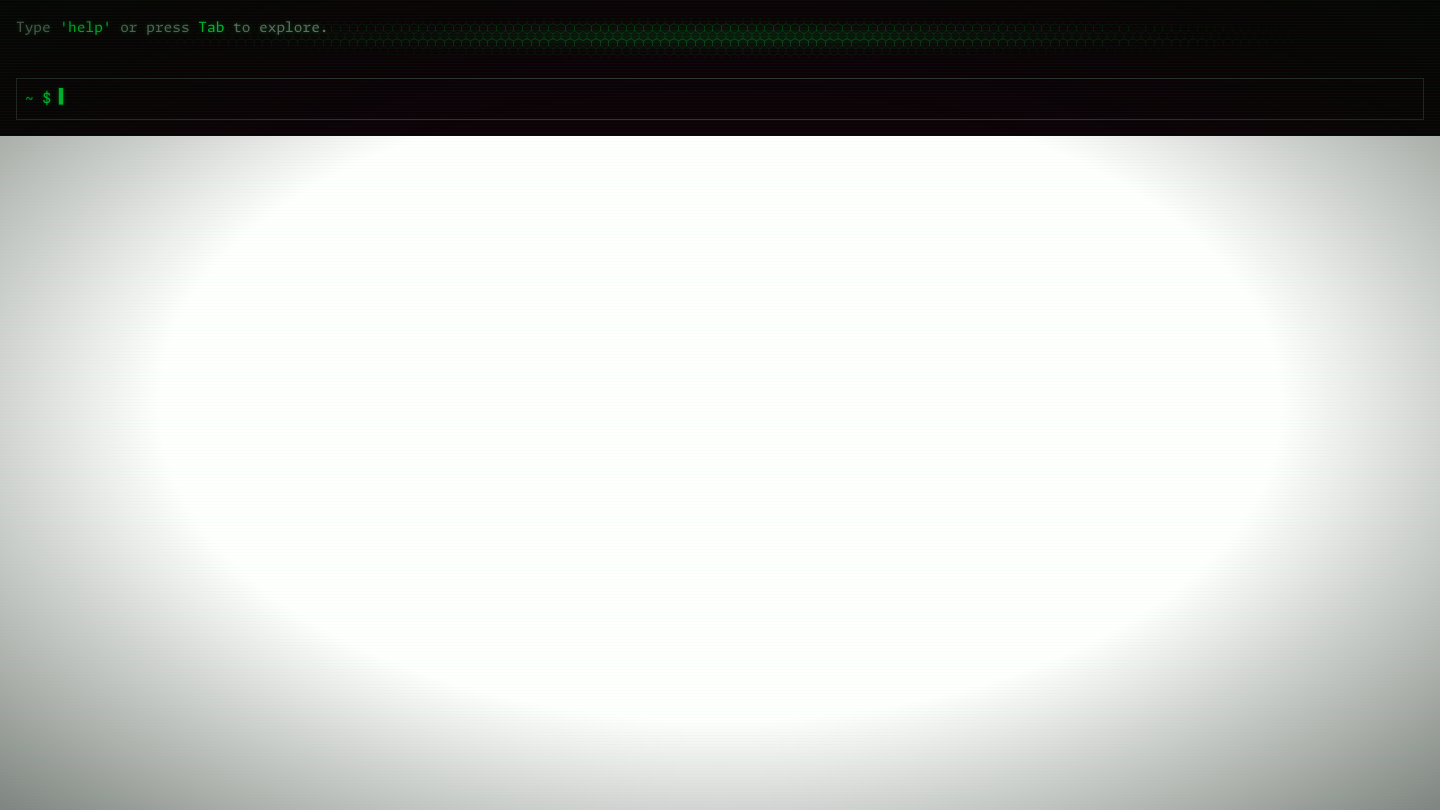
Test case: Terminal › clears terminal and shows MOTD on clear command
In the field: {"x": 737, "y": 100} [59,90,1415,110], type "history"
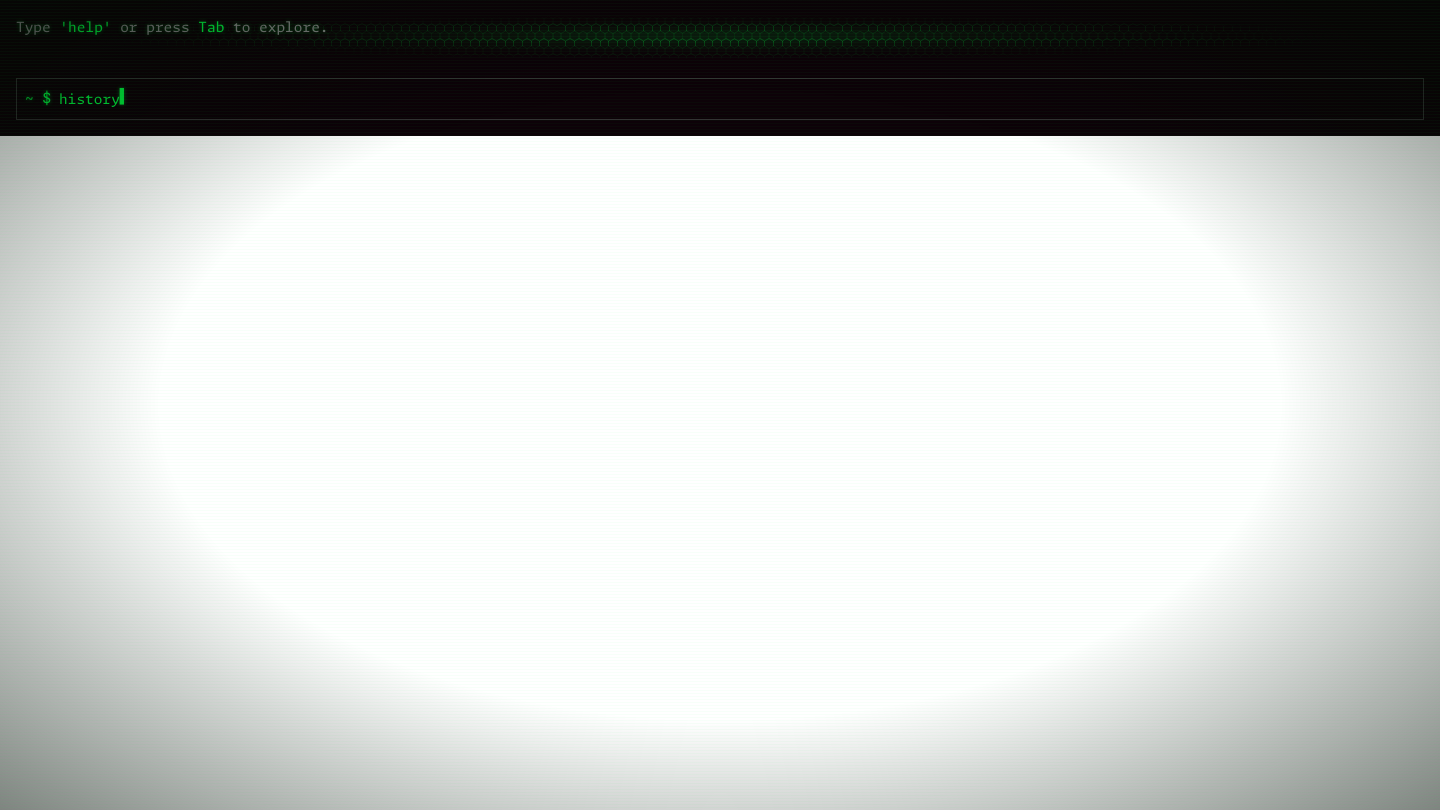
Press Enter in the field, box [59,90,1415,110]
Wait 600 ms
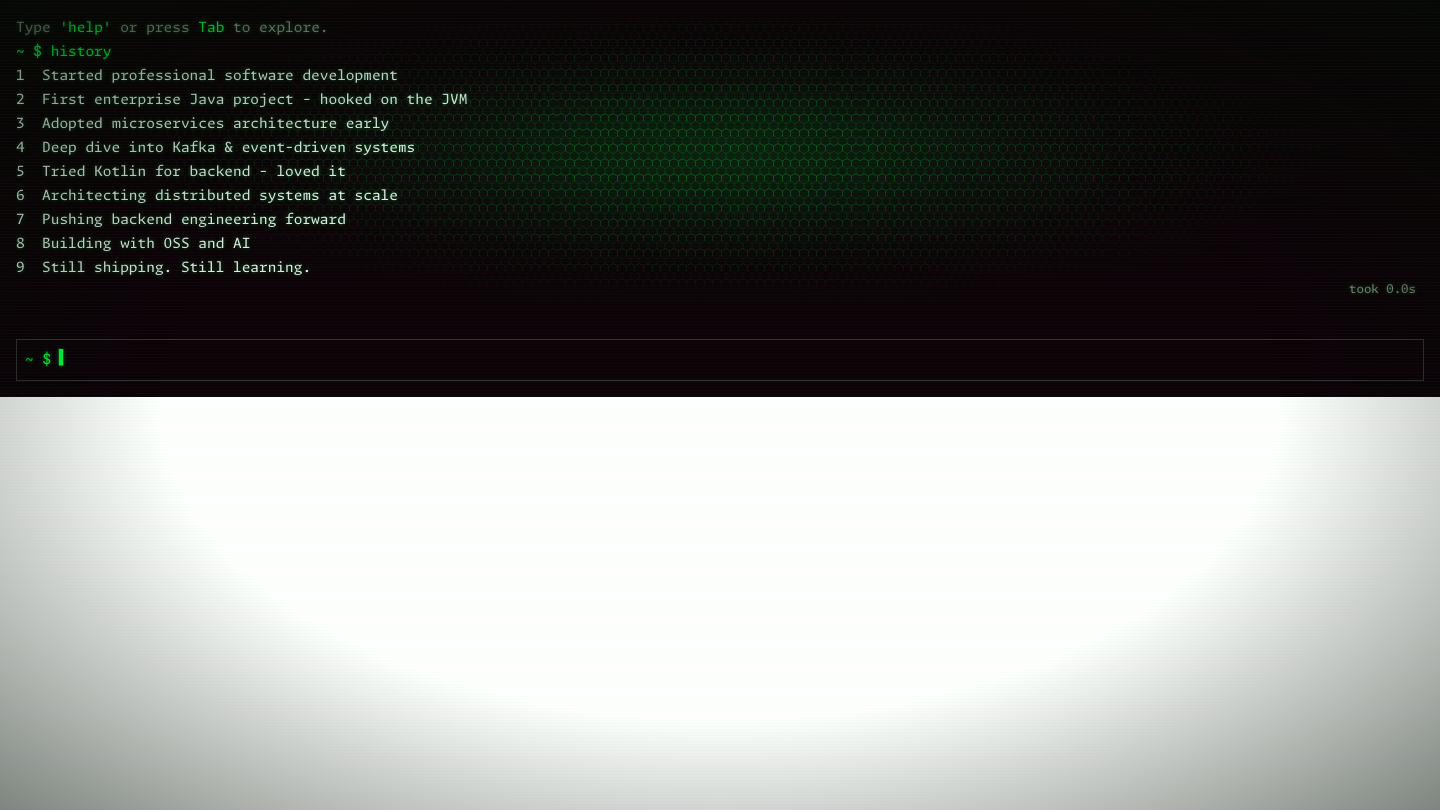
expect the text "9 Still shipping. Still learning." is shown: met, box [16,261,311,275]
In the field: {"x": 737, "y": 361} [59,351,1415,371], type "clear"
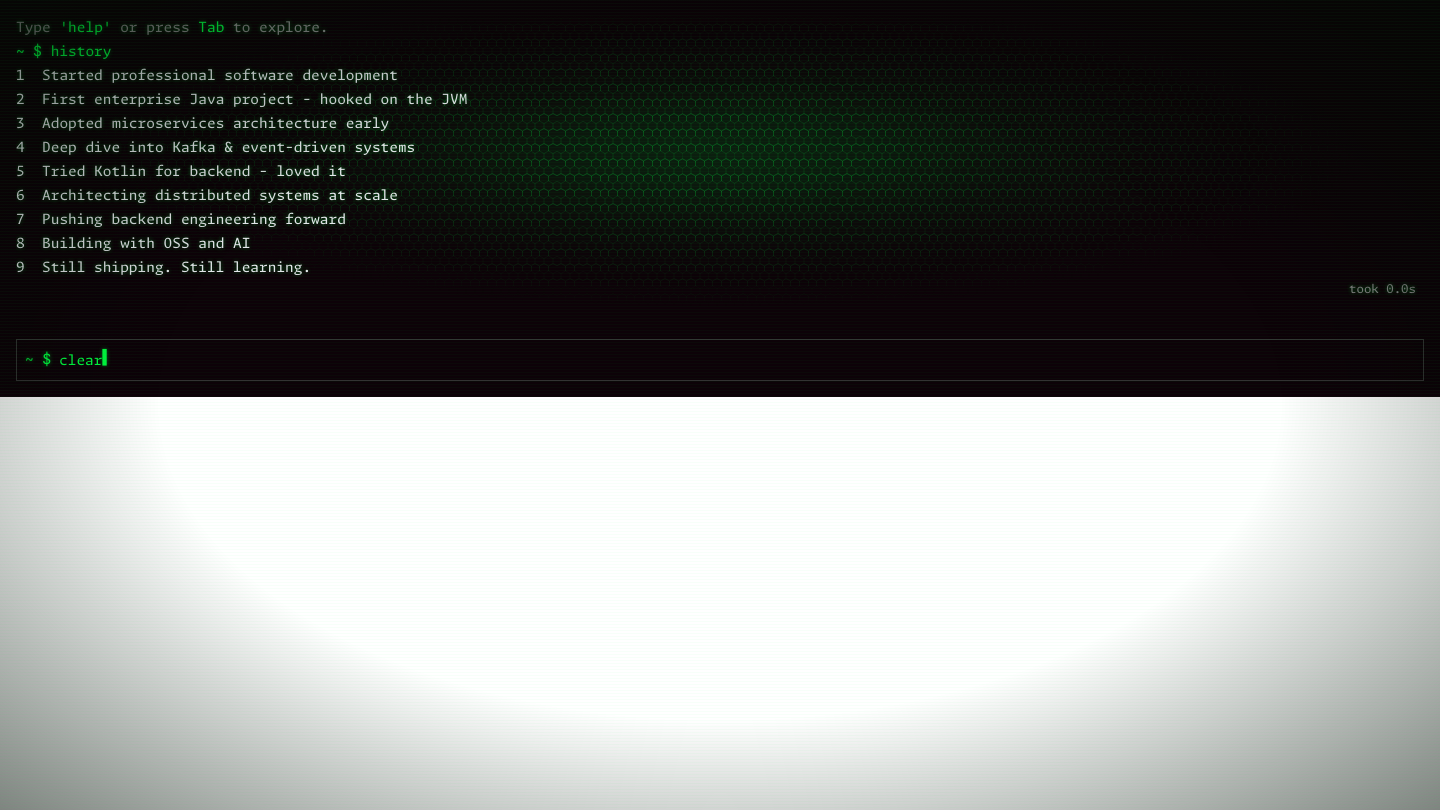
Press Enter in the field, box [59,351,1415,371]
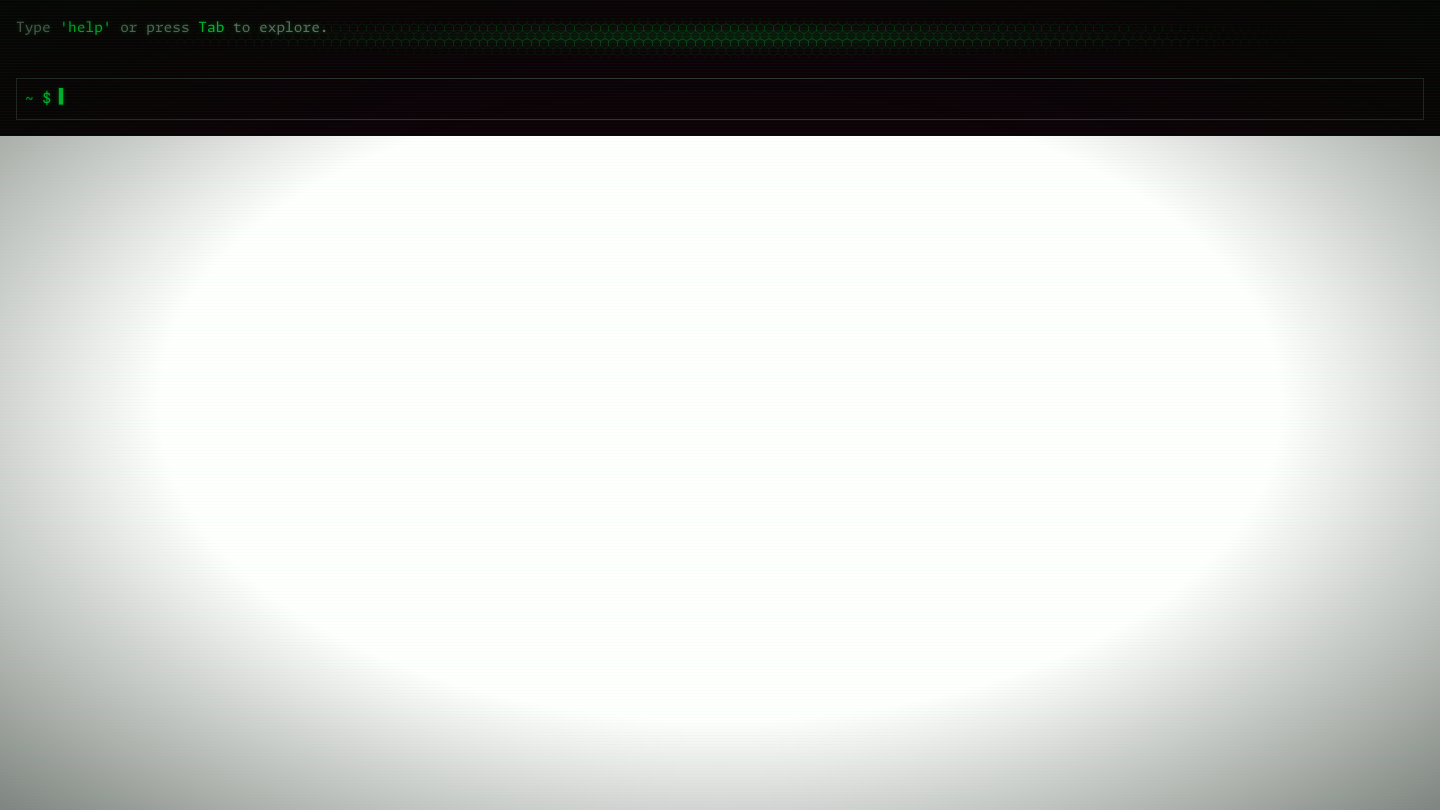
expect the text "Still shipping" is gone: met
